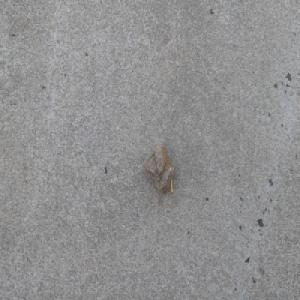Rock: (141, 138, 173, 195)
